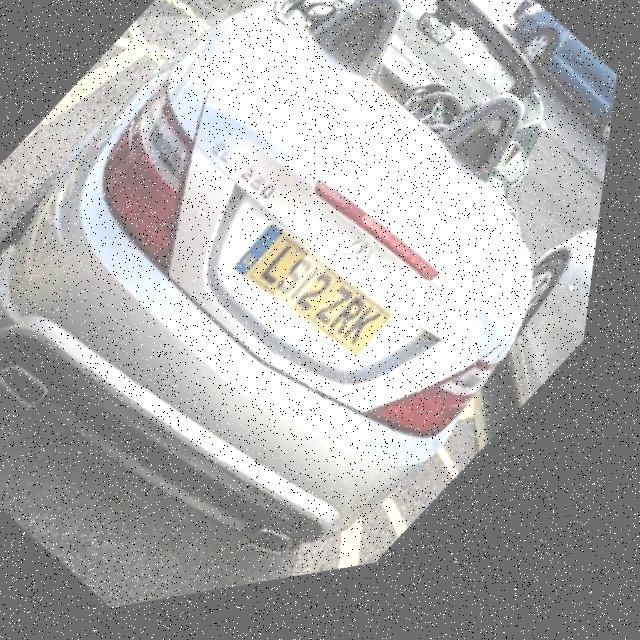license_plate: (227, 208, 417, 400)
